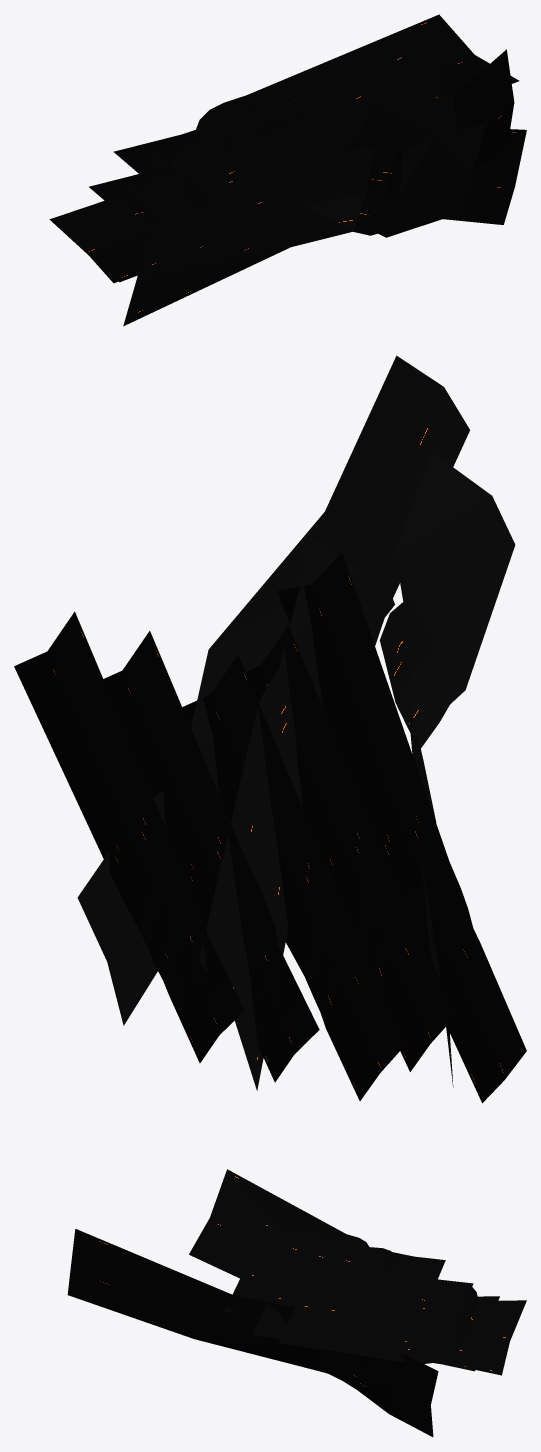
The picture shows the model from 3 angles, top to bottom: view 1: azimuth 30°, elevation 25°; view 2: azimuth 150°, elevation 25°; view 3: azimuth 270°, elevation 25°; orthographic projection. The views are drawn at different scales.
Parts seen in each view (by area): view 1: mesh00; view 2: mesh00; view 3: mesh00.
Part boxes in pixels (bbox=[...]): mesh00: bbox=[49, 14, 526, 326]; mesh00: bbox=[14, 355, 526, 1103]; mesh00: bbox=[67, 1169, 526, 1436].
Size of the model in its own units: 17702 by 13580 by 19529.
